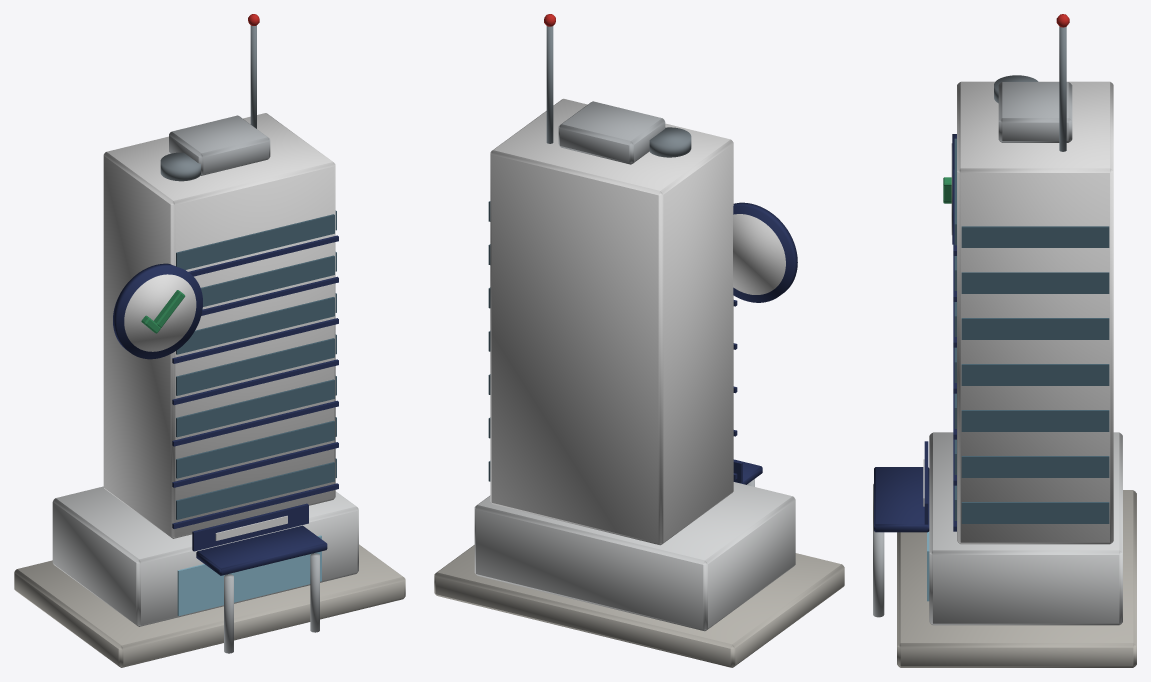
3 renders of one model, left to right at view 1: azimuth 30°, elevation 25°; view 2: azimuth 150°, elevation 25°; view 3: azimuth 270°, elevation 25°, orthographic. The views are drawn at different scales.
Parts seen in each view (by area): view 1: lm_14; view 2: lm_14; view 3: lm_14.
Part boxes in pixels (x1,y1,x2,y2): lm_14: (14,14,405,667); lm_14: (434,14,844,667); lm_14: (873,14,1136,667).
Size of the model in its own units: 0.8 by 1.47 by 0.572.
